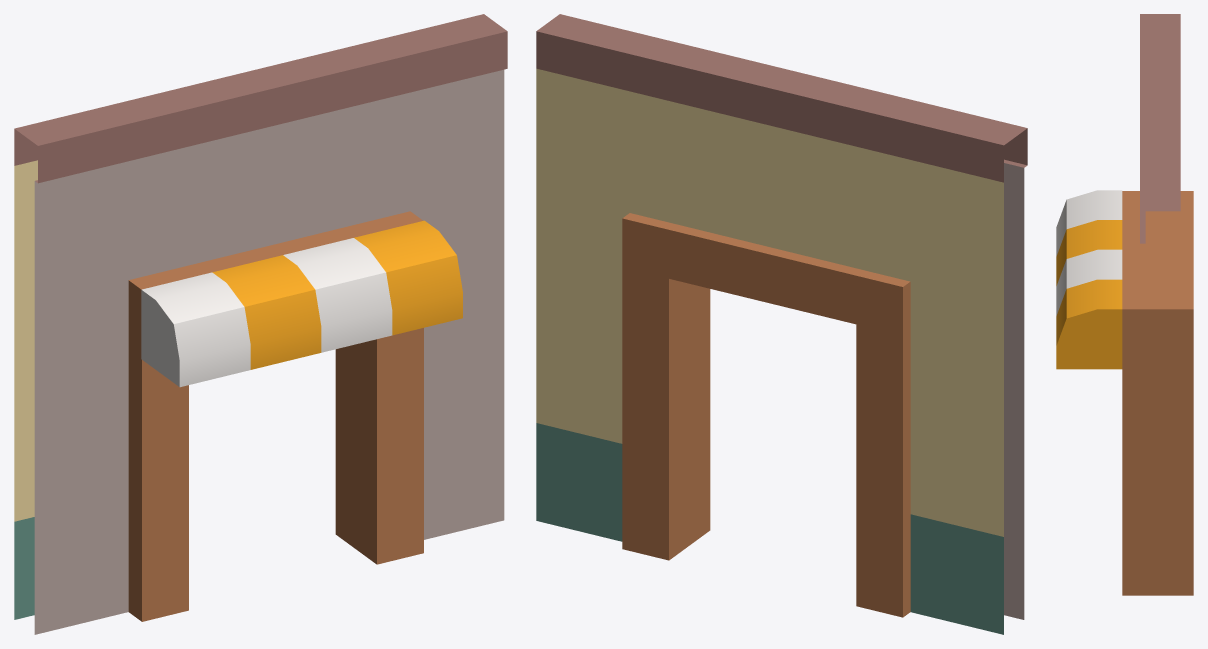
File: wall_outline.fbx
The picture shows the model from 3 angles, left to right: view 1: azimuth 30°, elevation 25°; view 2: azimuth 150°, elevation 25°; view 3: azimuth 270°, elevation 25°; orthographic projection. The views are drawn at different scales.
Parts seen in each view (by area): view 1: outline_wall; view 2: outline_wall; view 3: outline_wall.
Boxes of the visible parts, <box> form: outline_wall: <box>14,14,507,634</box>; outline_wall: <box>536,14,1027,634</box>; outline_wall: <box>1056,14,1193,595</box>.
Size of the model in its own units: 400 by 400 by 118.
